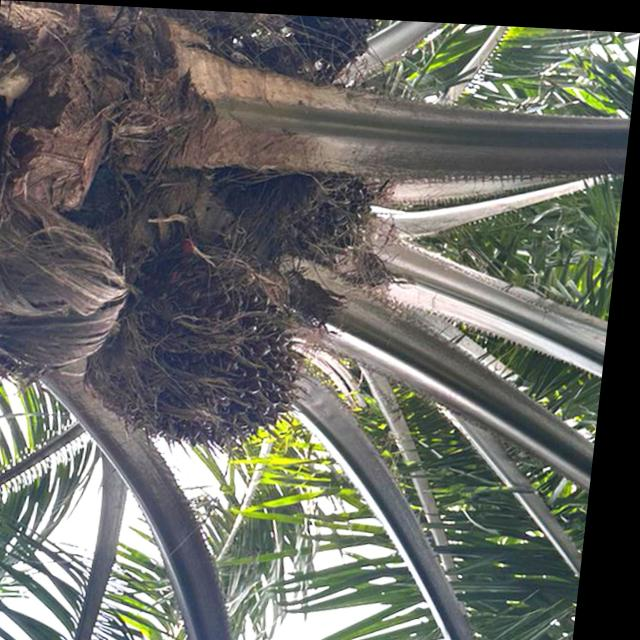unripe: (77, 239, 326, 463), (187, 135, 396, 299)
